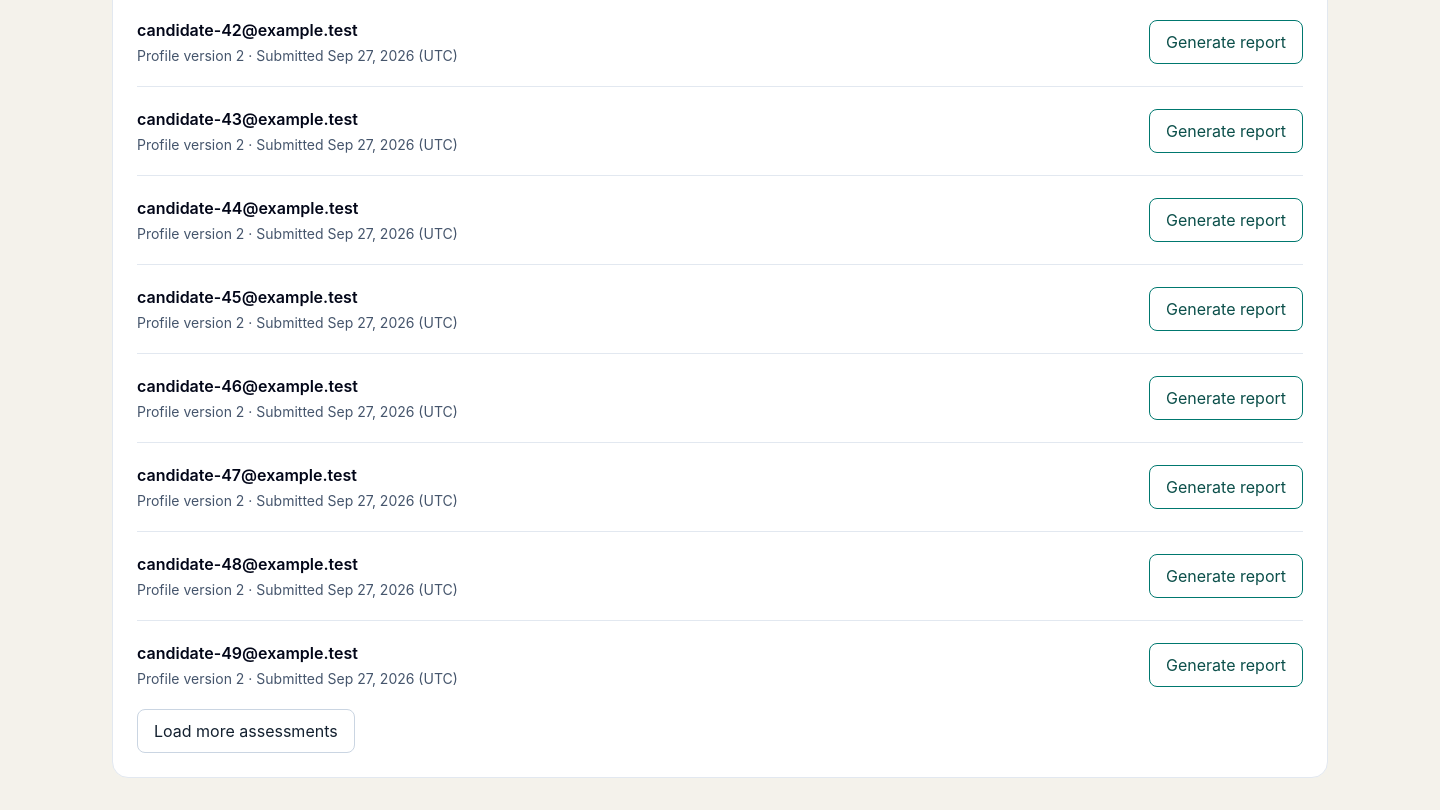
it: preserves chronological pagination and retries a failed next page
This screenshot has width=1440, height=810.
(page scrolled)
Click the button "Load more assessments". click: (246, 731)
box: top-left (137, 709), bottom-right (355, 753)
(page scrolled)
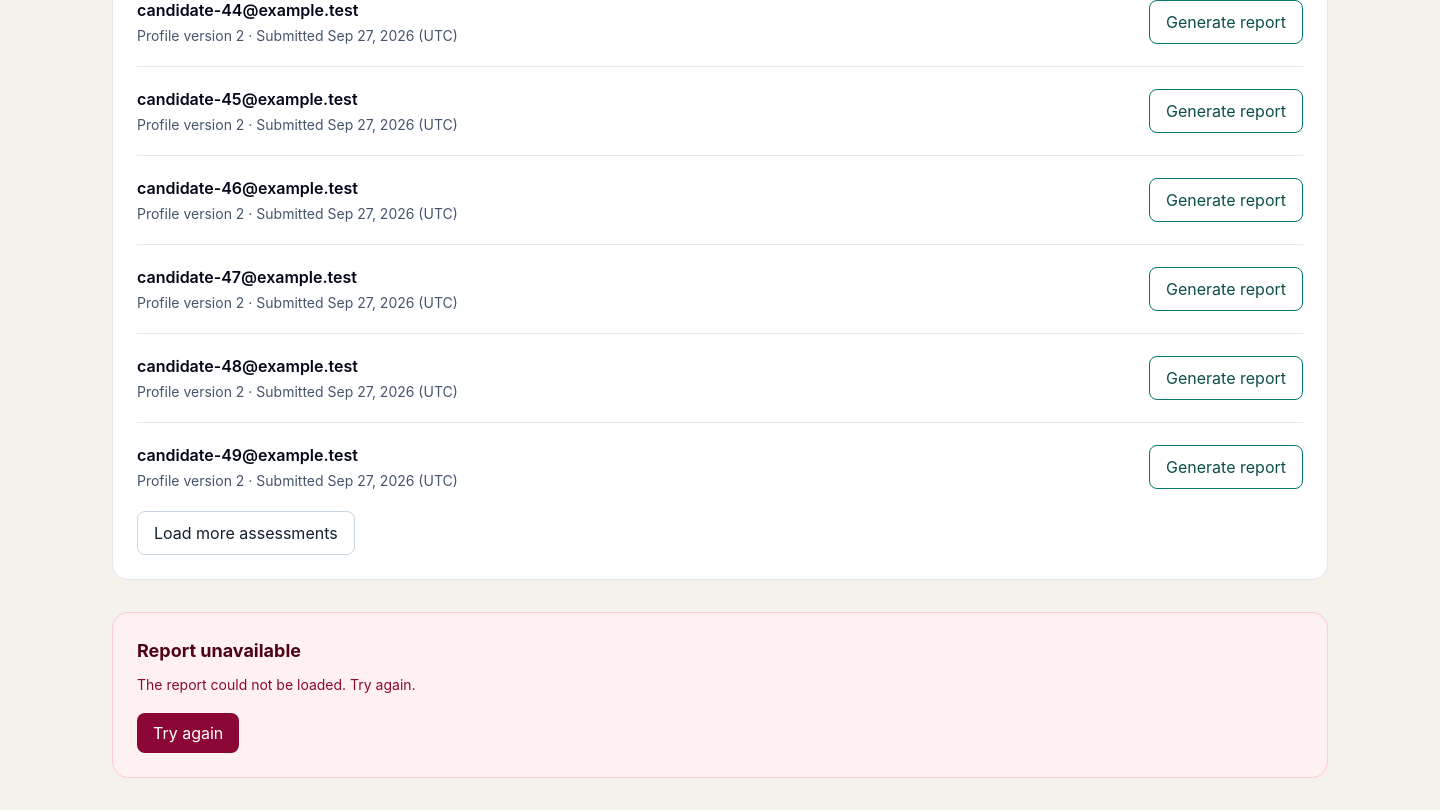
Result: the message "Report unavailable The report could not be loaded. Try again. Try again" is shown at top-left (112, 612), bottom-right (1328, 778)
Click the button "Try again". click: (188, 733)
box: top-left (137, 713), bottom-right (239, 753)
(page scrolled)
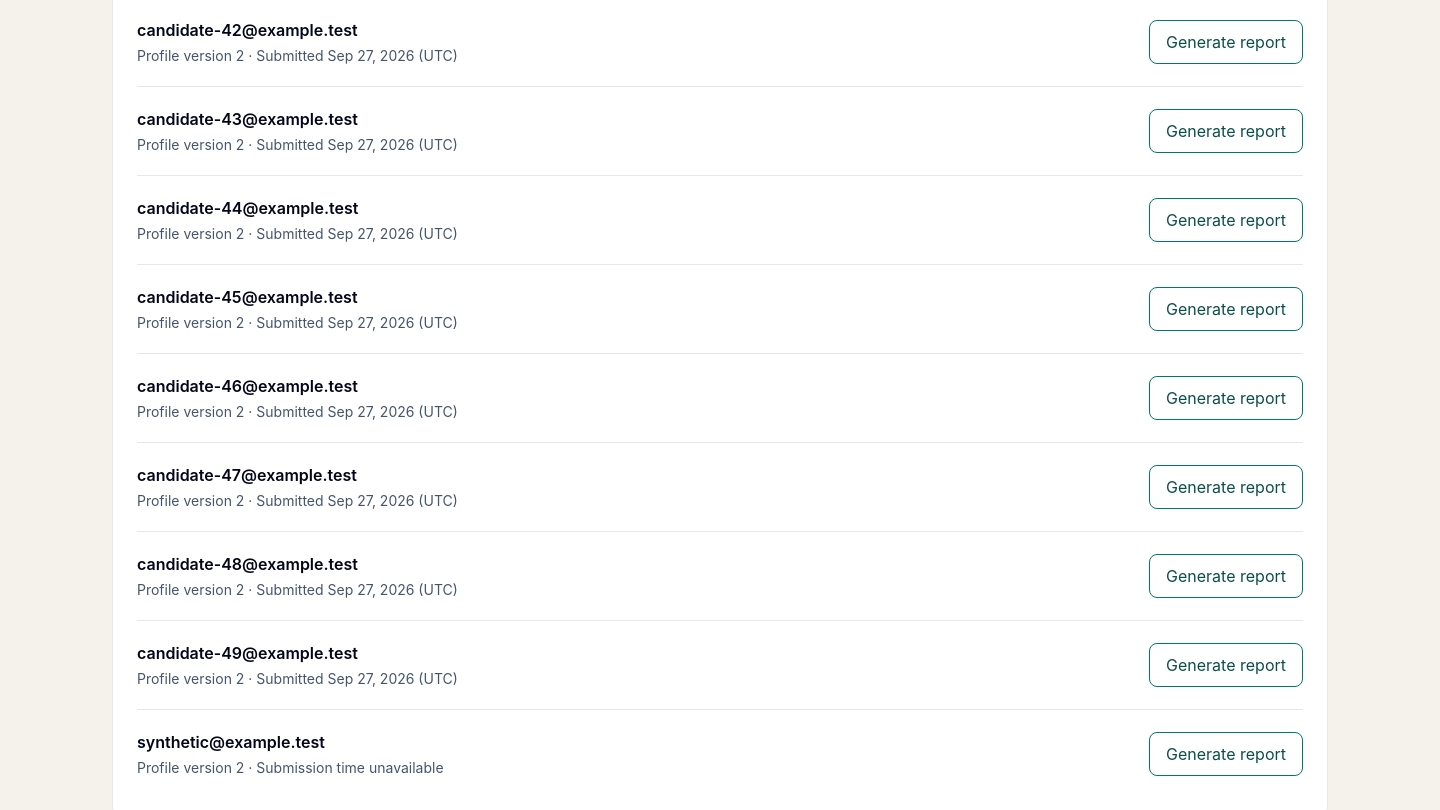
Result: the text "Profile version 2 · Submission time unavailable" is shown at top-left (137, 758), bottom-right (444, 778)
Result: the button "Load more assessments" is gone
